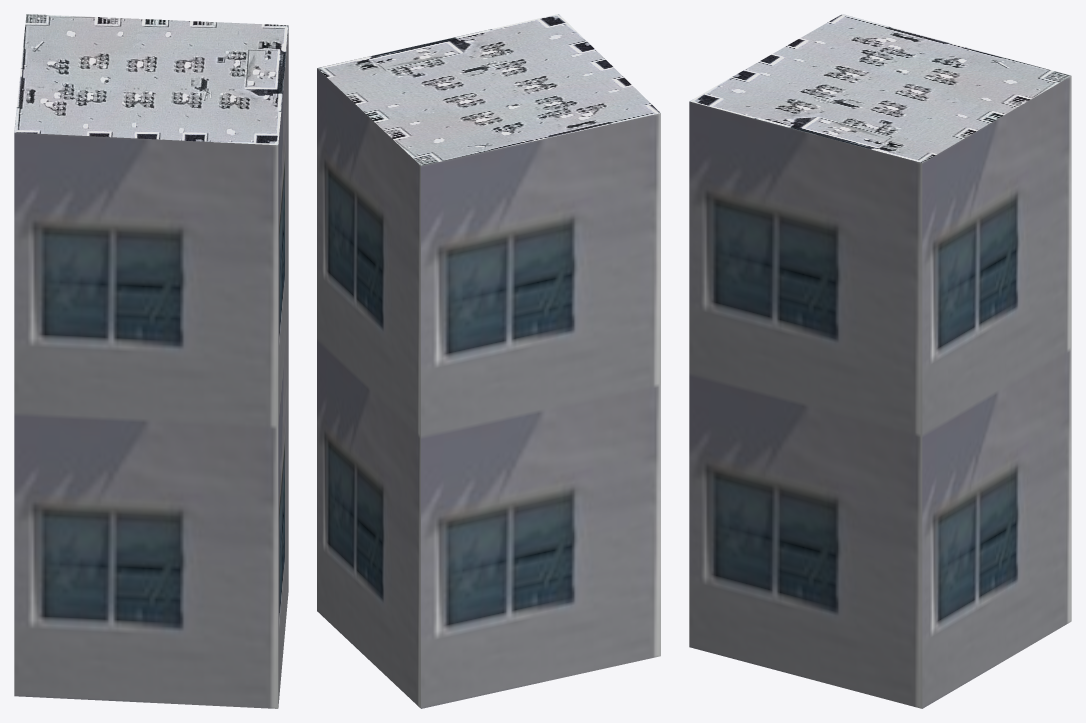
Rendered from ResTex__2103.fbx.
3 renders of one model, left to right at view 1: azimuth 30°, elevation 25°; view 2: azimuth 150°, elevation 25°; view 3: azimuth 270°, elevation 25°, orthographic. The views are drawn at different scales.
Visible parts, largest first — view 1: CityEngineMaterial_10_m, CityEngineMaterial_2_m; view 2: CityEngineMaterial_10_m, CityEngineMaterial_2_m; view 3: CityEngineMaterial_10_m, CityEngineMaterial_2_m.
Boxes of the visible parts, x1,y1,x2,y2 form: CityEngineMaterial_10_m: [14, 29, 288, 708]; CityEngineMaterial_2_m: [14, 14, 288, 145]; CityEngineMaterial_10_m: [317, 68, 660, 708]; CityEngineMaterial_2_m: [317, 14, 660, 165]; CityEngineMaterial_10_m: [689, 76, 1071, 708]; CityEngineMaterial_2_m: [689, 14, 1071, 162].
Bounding box in the file's own units: 3.52 × 6 × 3.81.
Materials: 2 (2 with a texture image).
